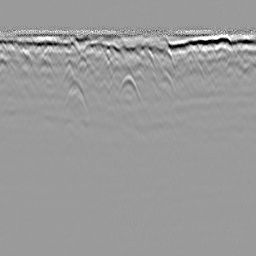cavity: (116, 71, 141, 102)
